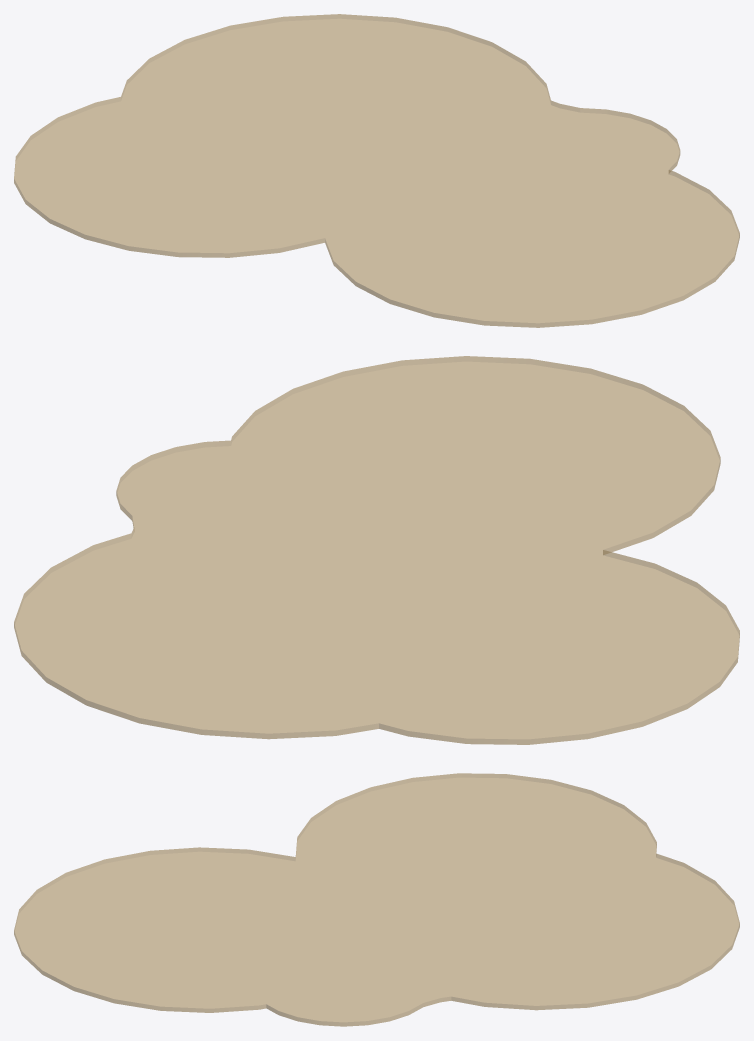
The model's file is Trash.fbx.
The picture shows the model from 3 angles, top to bottom: view 1: azimuth 30°, elevation 25°; view 2: azimuth 150°, elevation 25°; view 3: azimuth 270°, elevation 25°; orthographic projection. The views are drawn at different scales.
Parts seen in each view (by area): view 1: Model; view 2: Model; view 3: Model.
Boxes of the visible parts, bbox=[...] form: Model: bbox=[14, 14, 739, 327]; Model: bbox=[14, 356, 739, 744]; Model: bbox=[14, 773, 739, 1026].
Bounding box in the file's own units: 15.62 × 0.125 × 19.24.
